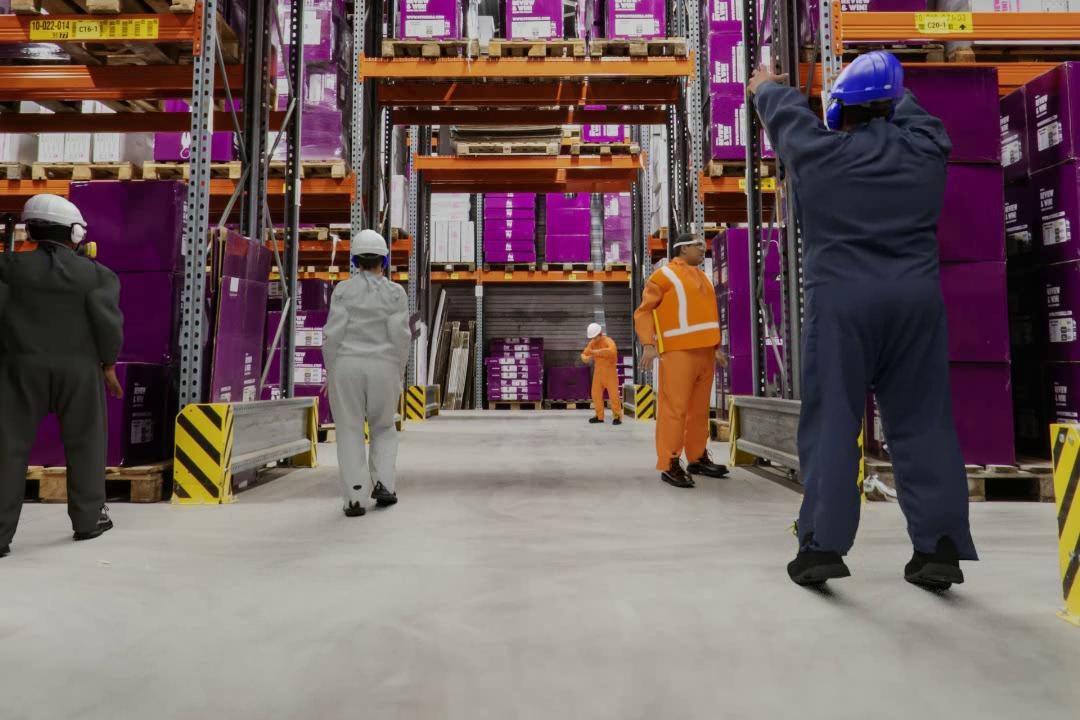Goggles: (667, 238, 711, 248)
Helmet: (23, 184, 94, 245), (351, 224, 389, 261), (589, 324, 604, 339)
Jacket: (655, 262, 725, 354)
Shoes: (901, 541, 969, 594), (777, 546, 857, 589), (60, 497, 119, 544), (658, 453, 697, 494), (689, 448, 730, 479), (371, 475, 402, 506), (338, 498, 366, 519), (589, 409, 602, 431), (609, 414, 626, 427)
